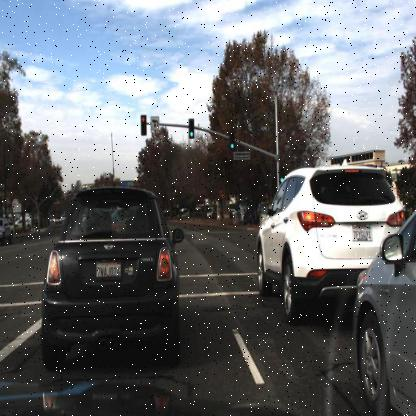car: (28, 177, 182, 386), (247, 163, 409, 326), (348, 166, 415, 415)
trafficLight-Green: (224, 127, 238, 159), (188, 115, 197, 142), (228, 130, 236, 154), (277, 164, 285, 185)
trafficLight-RedLeft: (140, 114, 148, 140)
